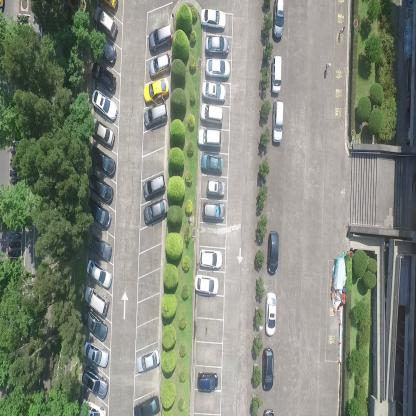car: (80, 307, 108, 342), (90, 88, 118, 122), (87, 172, 114, 206), (89, 146, 116, 180), (88, 116, 115, 150), (82, 365, 108, 400), (92, 4, 118, 39), (83, 285, 109, 318), (86, 230, 112, 263), (90, 61, 116, 94), (92, 35, 117, 68), (81, 341, 109, 369), (86, 259, 112, 289), (136, 346, 162, 375), (86, 200, 111, 230), (143, 77, 170, 104), (143, 198, 169, 226), (148, 24, 173, 53), (142, 172, 167, 201), (144, 103, 169, 130), (148, 52, 172, 78), (266, 228, 279, 275), (264, 291, 277, 338), (261, 347, 275, 390), (200, 7, 226, 30), (272, 98, 284, 146), (194, 272, 219, 295), (271, 0, 285, 41), (205, 57, 231, 79), (134, 394, 160, 416), (200, 101, 223, 124), (270, 52, 282, 96), (197, 128, 222, 149), (199, 248, 222, 270), (202, 200, 225, 222), (200, 152, 223, 174), (201, 80, 226, 100), (205, 35, 229, 55), (81, 397, 106, 415), (197, 370, 218, 390), (206, 177, 226, 196)
